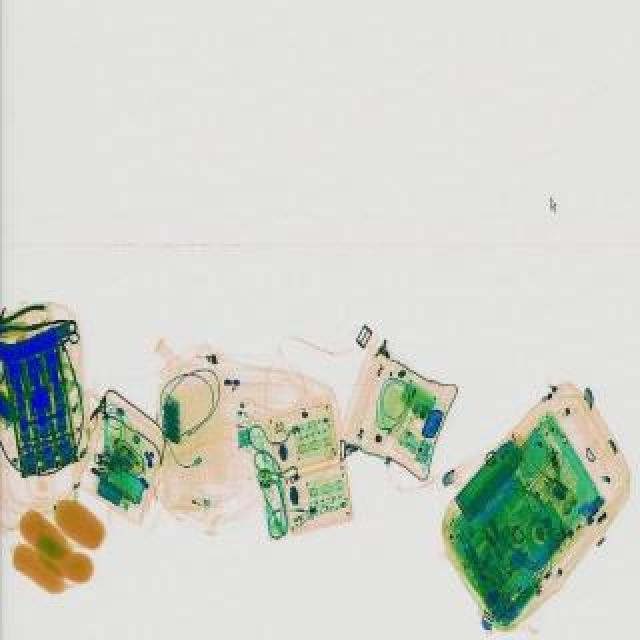scissors: (0, 314, 80, 362)
wrench: (0, 300, 52, 334)
